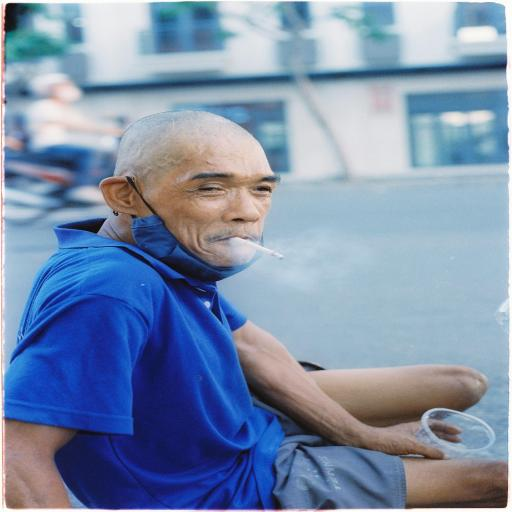dataset-deteksi-merokok: (148, 128, 294, 274)
